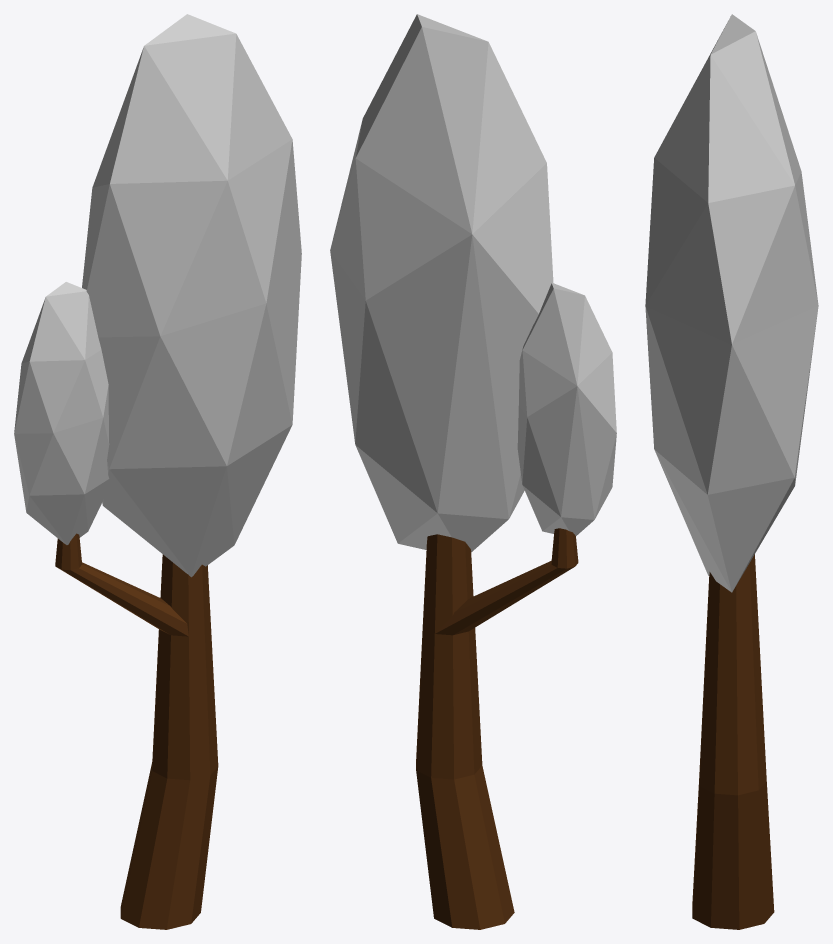
File: Tree_25.fbx
3 renders of one model, left to right at view 1: azimuth 30°, elevation 25°; view 2: azimuth 150°, elevation 25°; view 3: azimuth 270°, elevation 25°, orthographic. The views are drawn at different scales.
Parts seen in each view (by area): view 1: Tree_25; view 2: Tree_25; view 3: Tree_25.
Boxes of the visible parts, x1,y1,x2,y2 form: Tree_25: (14, 14, 301, 929); Tree_25: (330, 14, 616, 929); Tree_25: (645, 14, 818, 929).
Bounding box in the file's own units: 259 × 761 × 133.
